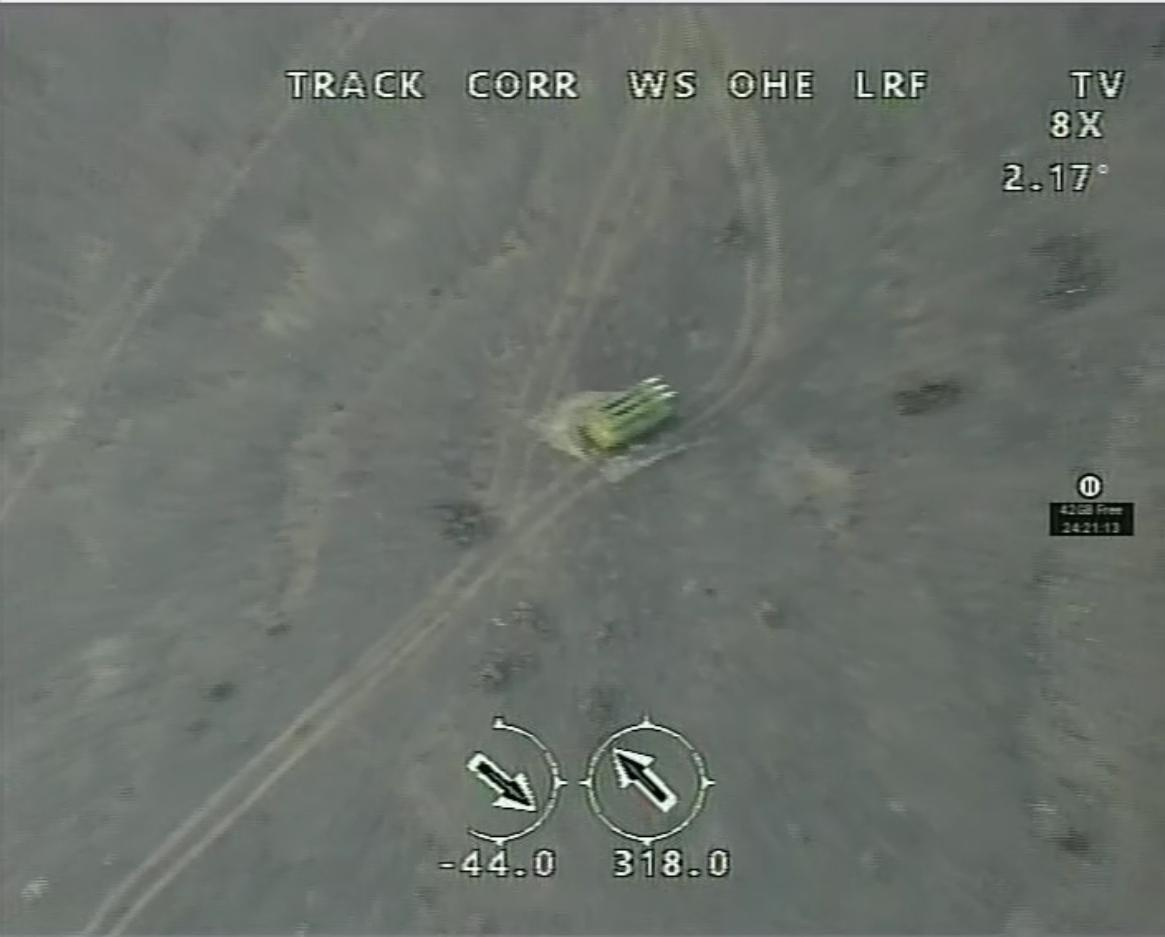armored_car: (568, 378, 685, 458)
